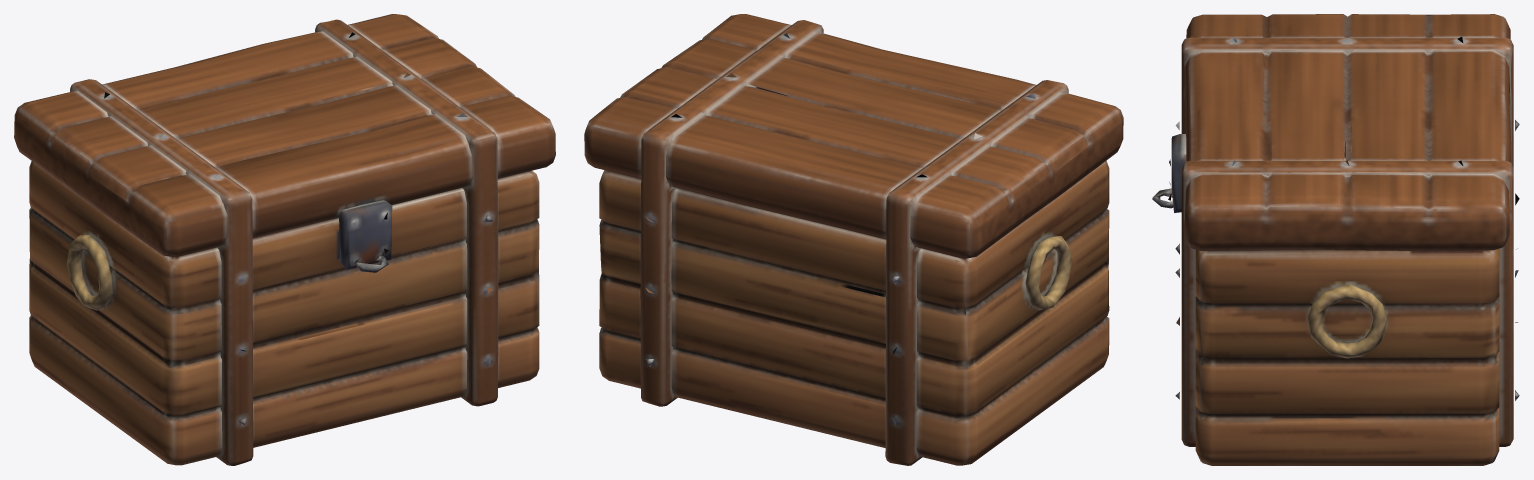
Rendered from storage_crate.glb.
3 renders of one model, left to right at view 1: azimuth 30°, elevation 25°; view 2: azimuth 150°, elevation 25°; view 3: azimuth 270°, elevation 25°, orthographic. The views are drawn at different scales.
Parts seen in each view (by area): view 1: storage_crate; view 2: storage_crate; view 3: storage_crate.
Part boxes in pixels (<box>): storage_crate: <box>14,14,555,465</box>; storage_crate: <box>584,14,1123,465</box>; storage_crate: <box>1152,14,1519,465</box>.
Size of the model in its own units: 1.18 by 0.7723 by 0.9077.
1 material, 1 textured.
